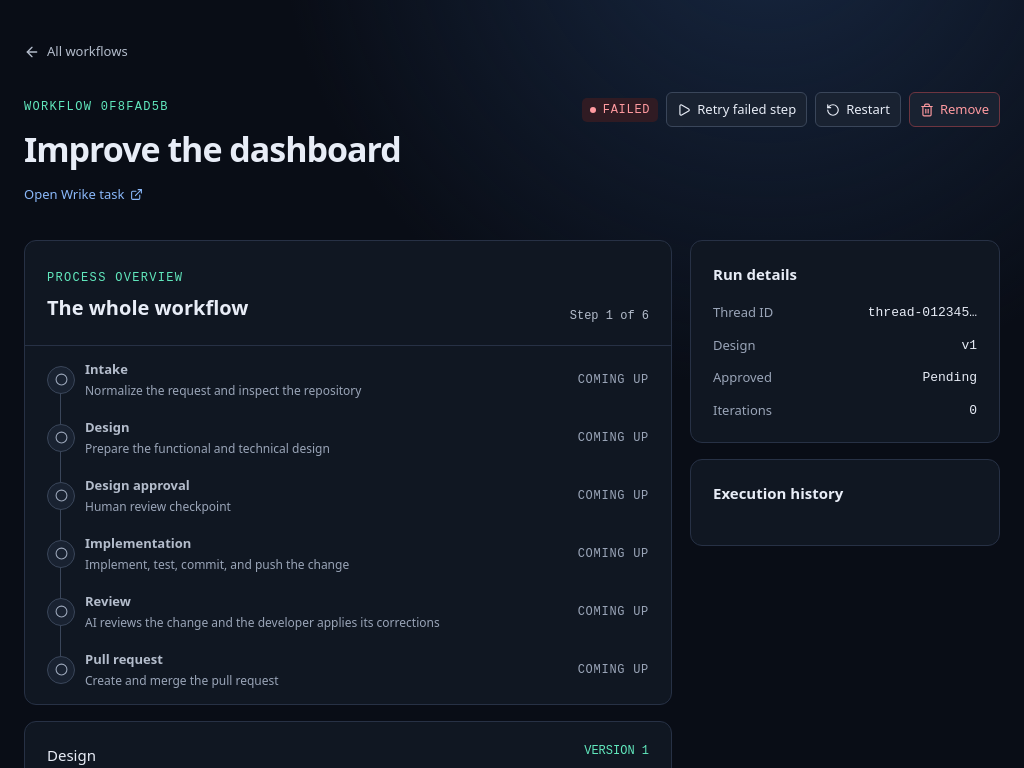
Test: WorkflowDetailPage actions › shows the API error when "Retry failed step" fails and re-enables actions
expect the heading "Improve the dashboard" is shown: met, box [24,124,401,175]
Click the button "Retry failed step" at [737, 110], box [666,92,807,127]
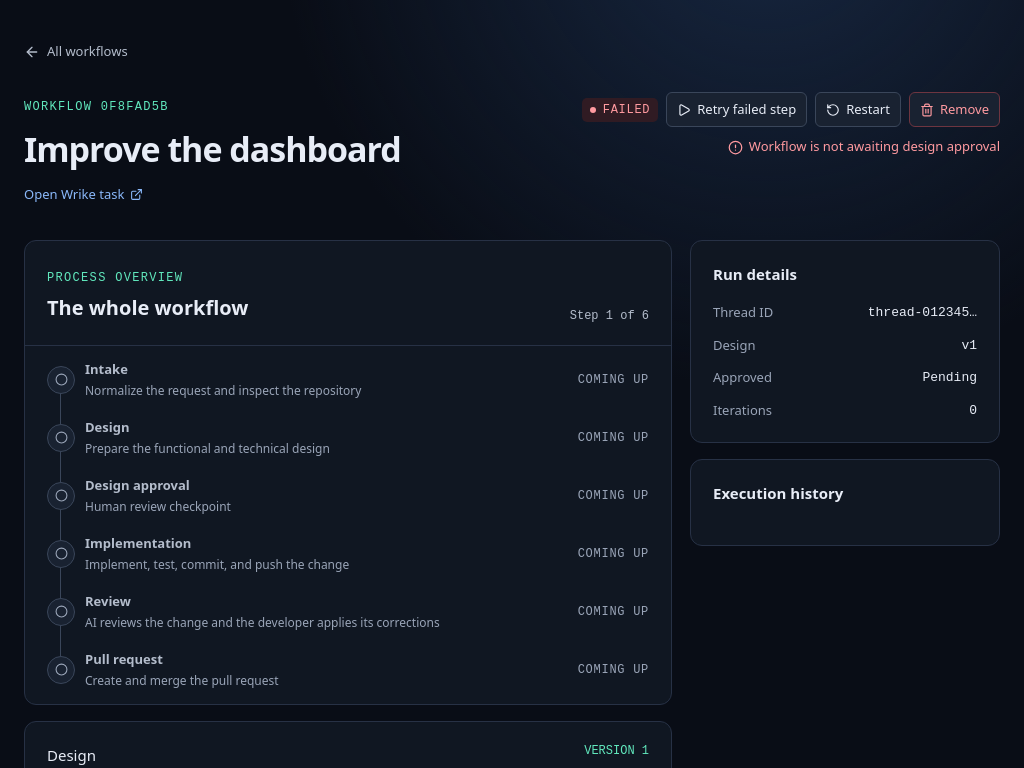
expect the message reads "Workflow is not awaiting design approval": met, box [749,137,1000,155]
